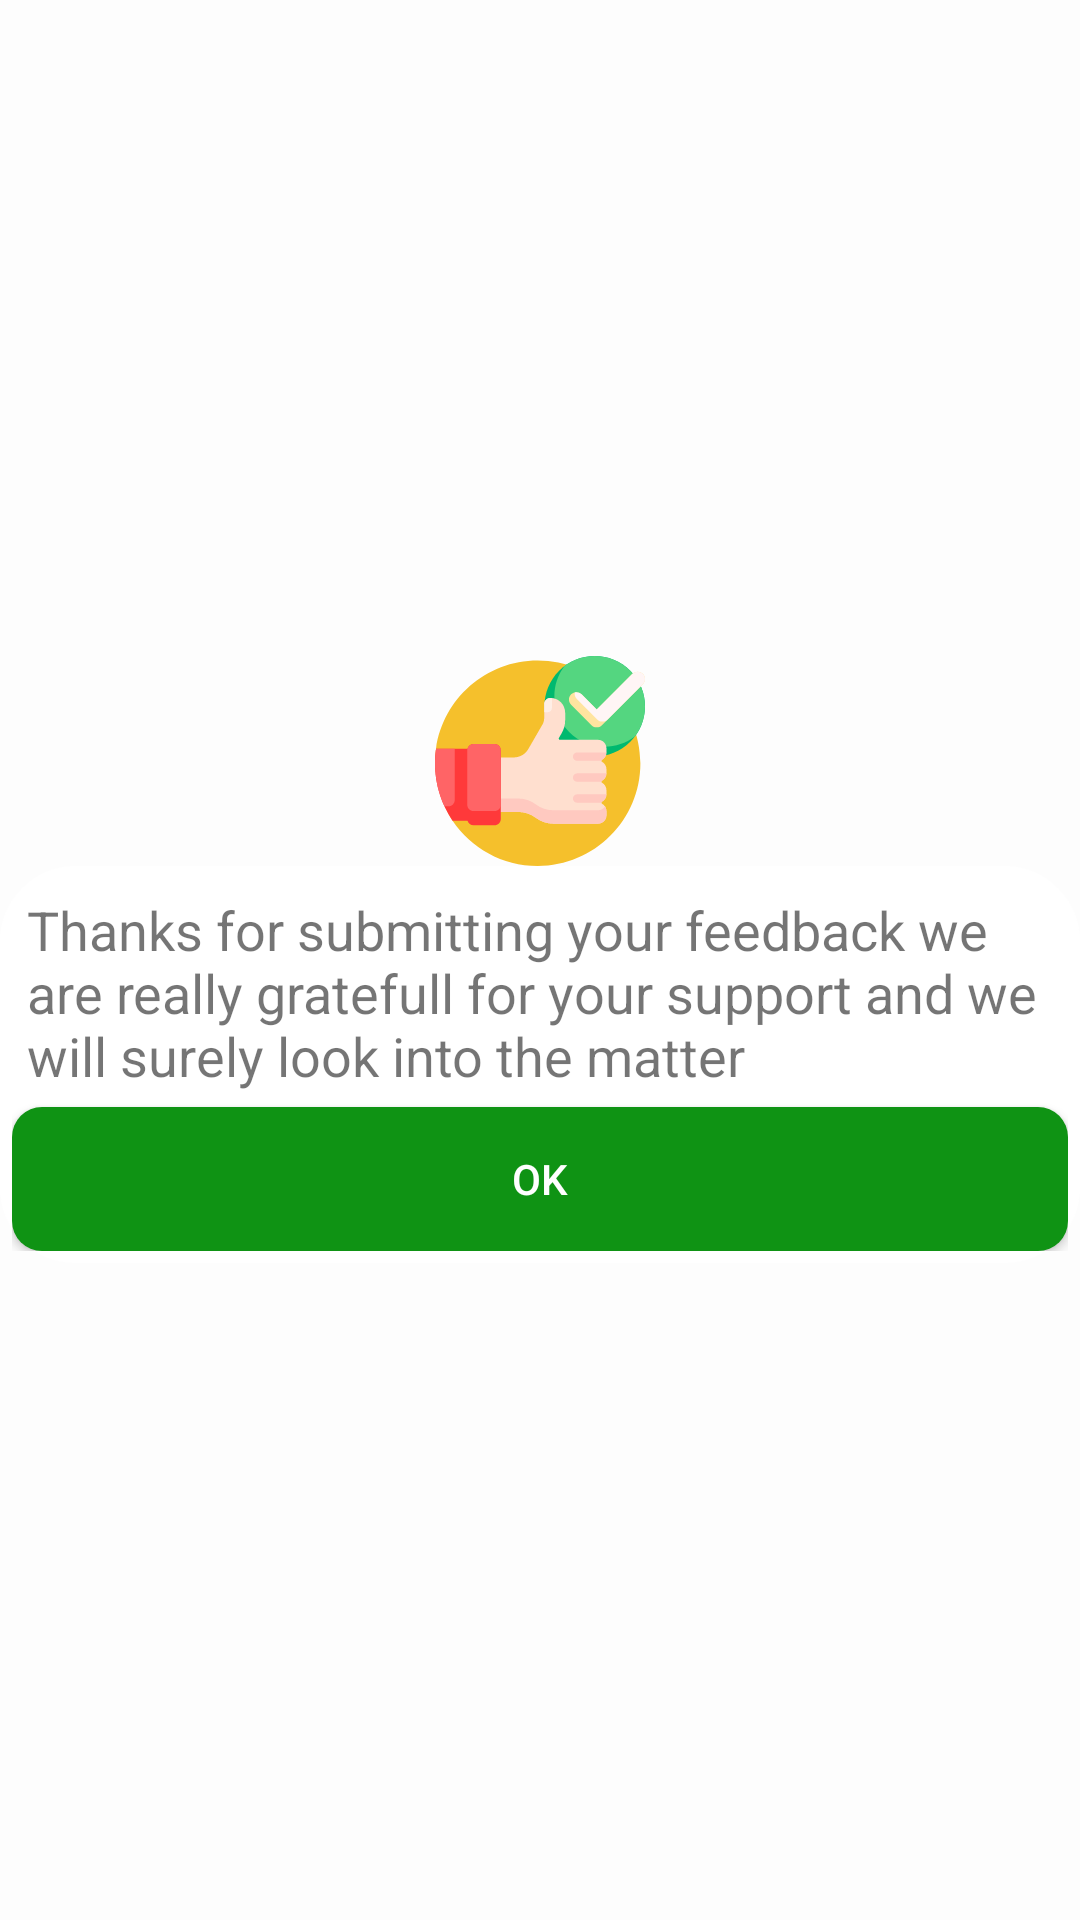

Locate icon controls on the screen. Image size 1080*1920, boxes as (x1, y1, x2, y2).
like: (435, 656, 645, 866)
